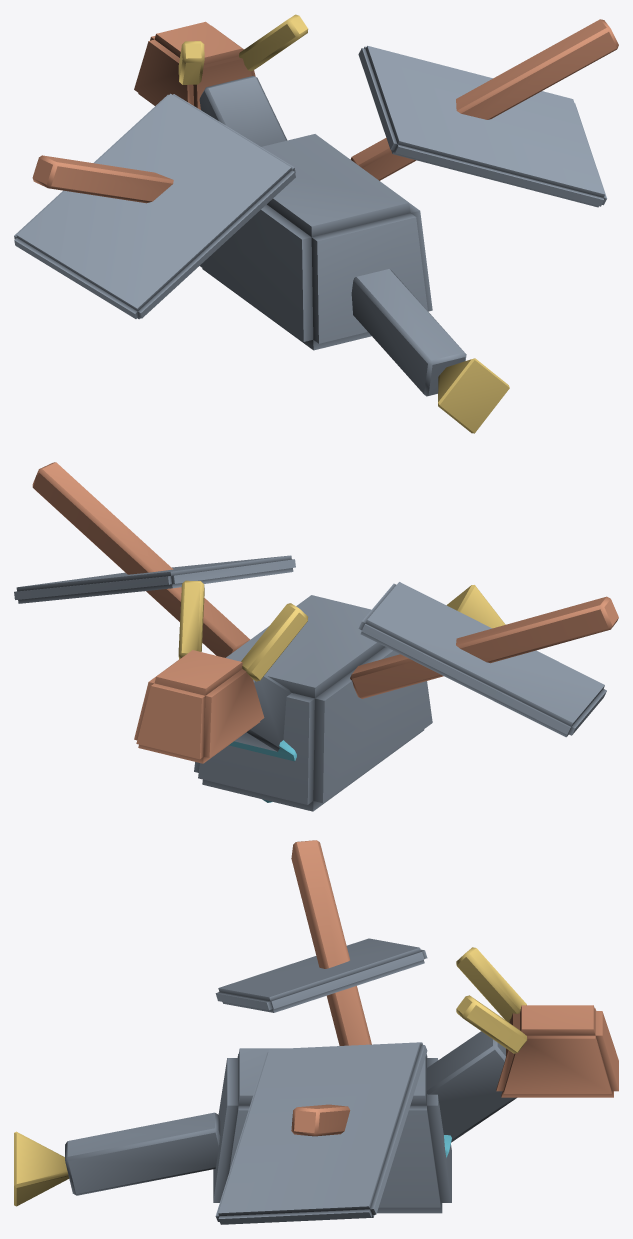
File: glyph_drake_lod0.glb
3 renders of one model, top to bottom at view 1: azimuth 30°, elevation 25°; view 2: azimuth 150°, elevation 25°; view 3: azimuth 270°, elevation 25°, orthographic.
Parts seen in each view (by area): view 1: glyph_drake; view 2: glyph_drake; view 3: glyph_drake.
Boxes of the visible parts, bbox=[...] form: glyph_drake: bbox=[14, 14, 618, 433]; glyph_drake: bbox=[14, 462, 618, 811]; glyph_drake: bbox=[14, 840, 618, 1224].
Bounding box in the file's own units: 2.41 × 0.9289 × 2.2.
